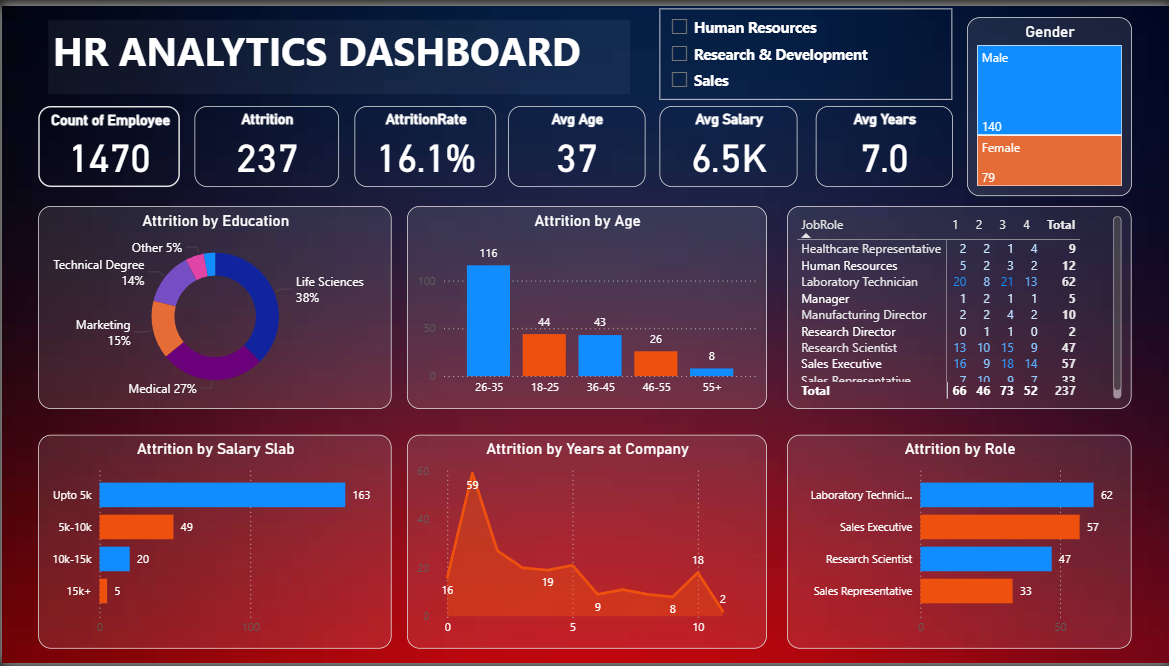

This screenshot's page, from the dashboard's own definition file:
{"tool":"powerbi","page":{"name":"Page 1","canvas":[1280,720],"ordinal":0},"visuals":[{"type":"card","title":"Count of Employee","fields":{"Values":["CountNonNull(HR_Analytics.EmpID)"]},"box":[40.3,109.7,155.6,88.9],"z":0},{"type":"card","title":"Attrition","fields":{"Values":["Sum(HR_Analytics.AttritionCount)"]},"box":[211.1,109.7,158.3,88.9],"z":1000},{"type":"card","title":"AttritionRate","fields":{"Values":["HR_Analytics.AttritionRate"]},"box":[386.1,109.7,155.6,88.9],"z":2000},{"type":"card","title":"Avg Age","fields":{"Values":["Avg(HR_Analytics.Age)"]},"box":[554.2,109.7,150,88.9],"z":3000},{"type":"card","title":"Avg Salary","fields":{"Values":["Avg(HR_Analytics.MonthlyIncome)"]},"box":[720.8,109.7,151.4,88.9],"z":4000},{"type":"card","title":"Avg Years","fields":{"Values":["Avg(HR_Analytics.YearsAtCompany)"]},"box":[891.7,109.7,150,88.9],"z":5000},{"type":"donutChart","title":"Attrition by Education","fields":{"Category":["HR_Analytics.EducationField"],"Y":["Sum(HR_Analytics.AttritionCount)"]},"box":[40.3,219.4,387.5,222.2],"z":6000},{"type":"columnChart","title":"Attrition by Age","fields":{"Category":["HR_Analytics.AgeGroup"],"Y":["Sum(HR_Analytics.AttritionCount)"]},"box":[444.4,219.4,394.4,222.2],"z":7000},{"type":"pivotTable","fields":{"Rows":["HR_Analytics.JobRole"],"Columns":["HR_Analytics.JobSatisfaction"],"Values":["Sum(HR_Analytics.AttritionCount)"]},"box":[859.7,219.4,377.8,222.2],"z":8000},{"type":"clusteredBarChart","title":"Attrition by Role","fields":{"Category":["HR_Analytics.JobRole"],"Y":["Sum(HR_Analytics.AttritionCount)"]},"box":[859.7,469.4,377.8,234.7],"z":9000},{"type":"areaChart","title":"Attrition by Years at Company","fields":{"Category":["HR_Analytics.YearsAtCompany"],"Y":["Sum(HR_Analytics.AttritionCount)"]},"box":[444.4,469.4,394.4,234.7],"z":10000},{"type":"clusteredBarChart","title":"Attrition by Salary Slab","fields":{"Category":["HR_Analytics.SalarySlab","HR_Analytics.AgeGroup"],"Y":["Sum(HR_Analytics.AttritionCount)"]},"box":[40.3,469.4,387.5,234.7],"z":11000},{"type":"treemap","title":"Gender","fields":{"Group":["HR_Analytics.Gender"],"Values":["Sum(HR_Analytics.AttritionCount)"]},"box":[1056.9,12.5,180.6,195.8],"z":12000},{"type":"slicer","fields":{"Values":["HR_Analytics.Department"]},"box":[720.8,2.8,320.8,100],"z":13000},{"type":"textbox","box":[50,15.3,637.5,81.9],"z":14000}]}

Visuals, with their boxes in screenshot pixels (x1, y1, x2, y2), scaled from the page's 1280x720 canvas onto the 1169x666 screenshot:
"Count of Employee" card: 37/101/179/184
"Attrition" card: 193/101/337/184
"AttritionRate" card: 353/101/495/184
"Avg Age" card: 506/101/643/184
"Avg Salary" card: 658/101/797/184
"Avg Years" card: 814/101/951/184
"Attrition by Education" donutChart: 37/203/391/408
"Attrition by Age" columnChart: 406/203/766/408
pivotTable - HR_Analytics.JobRole x HR_Analytics.JobSatisfaction: 785/203/1130/408
"Attrition by Role" clusteredBarChart: 785/434/1130/651
"Attrition by Years at Company" areaChart: 406/434/766/651
"Attrition by Salary Slab" clusteredBarChart: 37/434/391/651
"Gender" treemap: 965/12/1130/193
slicer - HR_Analytics.Department: 658/3/951/95
textbox: 46/14/628/90
